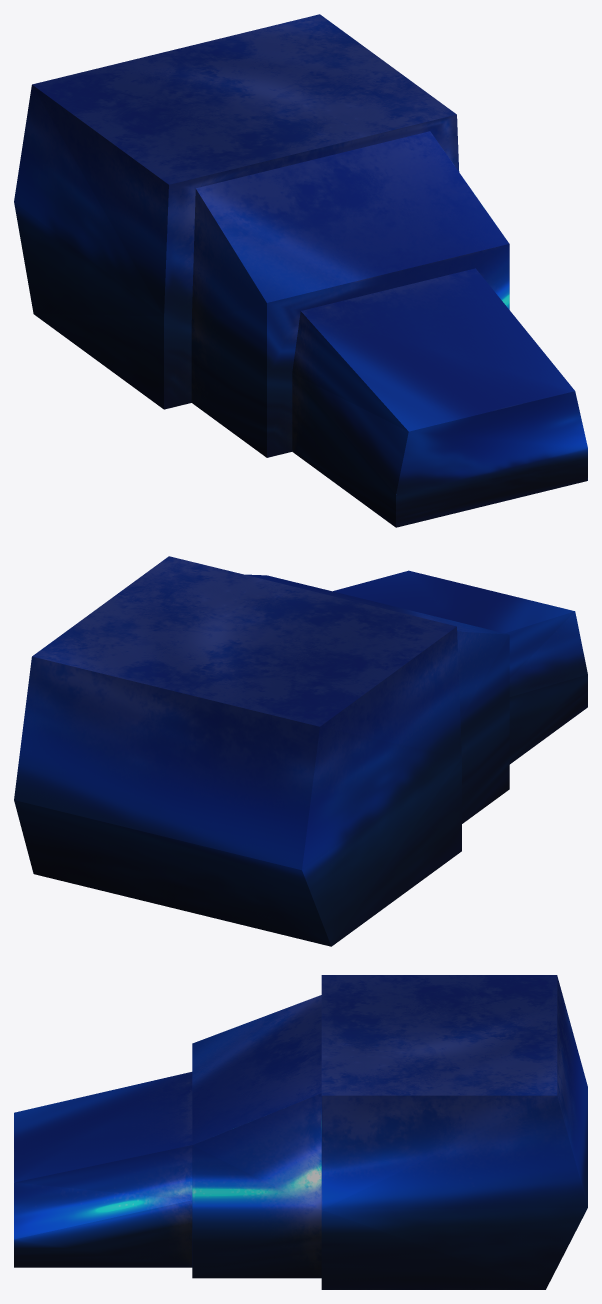
Rendered from L_FEET.obj.
The picture shows the model from 3 angles, top to bottom: view 1: azimuth 30°, elevation 25°; view 2: azimuth 150°, elevation 25°; view 3: azimuth 270°, elevation 25°; orthographic projection. The views are drawn at different scales.
Parts seen in each view (by area): view 1: pasted__pCube13 group; view 2: pasted__pCube13 group; view 3: pasted__pCube13 group.
Boxes of the visible parts, x1=… form: pasted__pCube13 group: x1=14, y1=14, x2=587, y2=527; pasted__pCube13 group: x1=14, y1=556, x2=587, y2=946; pasted__pCube13 group: x1=14, y1=975, x2=587, y2=1289.
Bounding box in the file's own units: 1 × 0.7173 × 1.94.
Materials: 1 (1 with a texture image).
